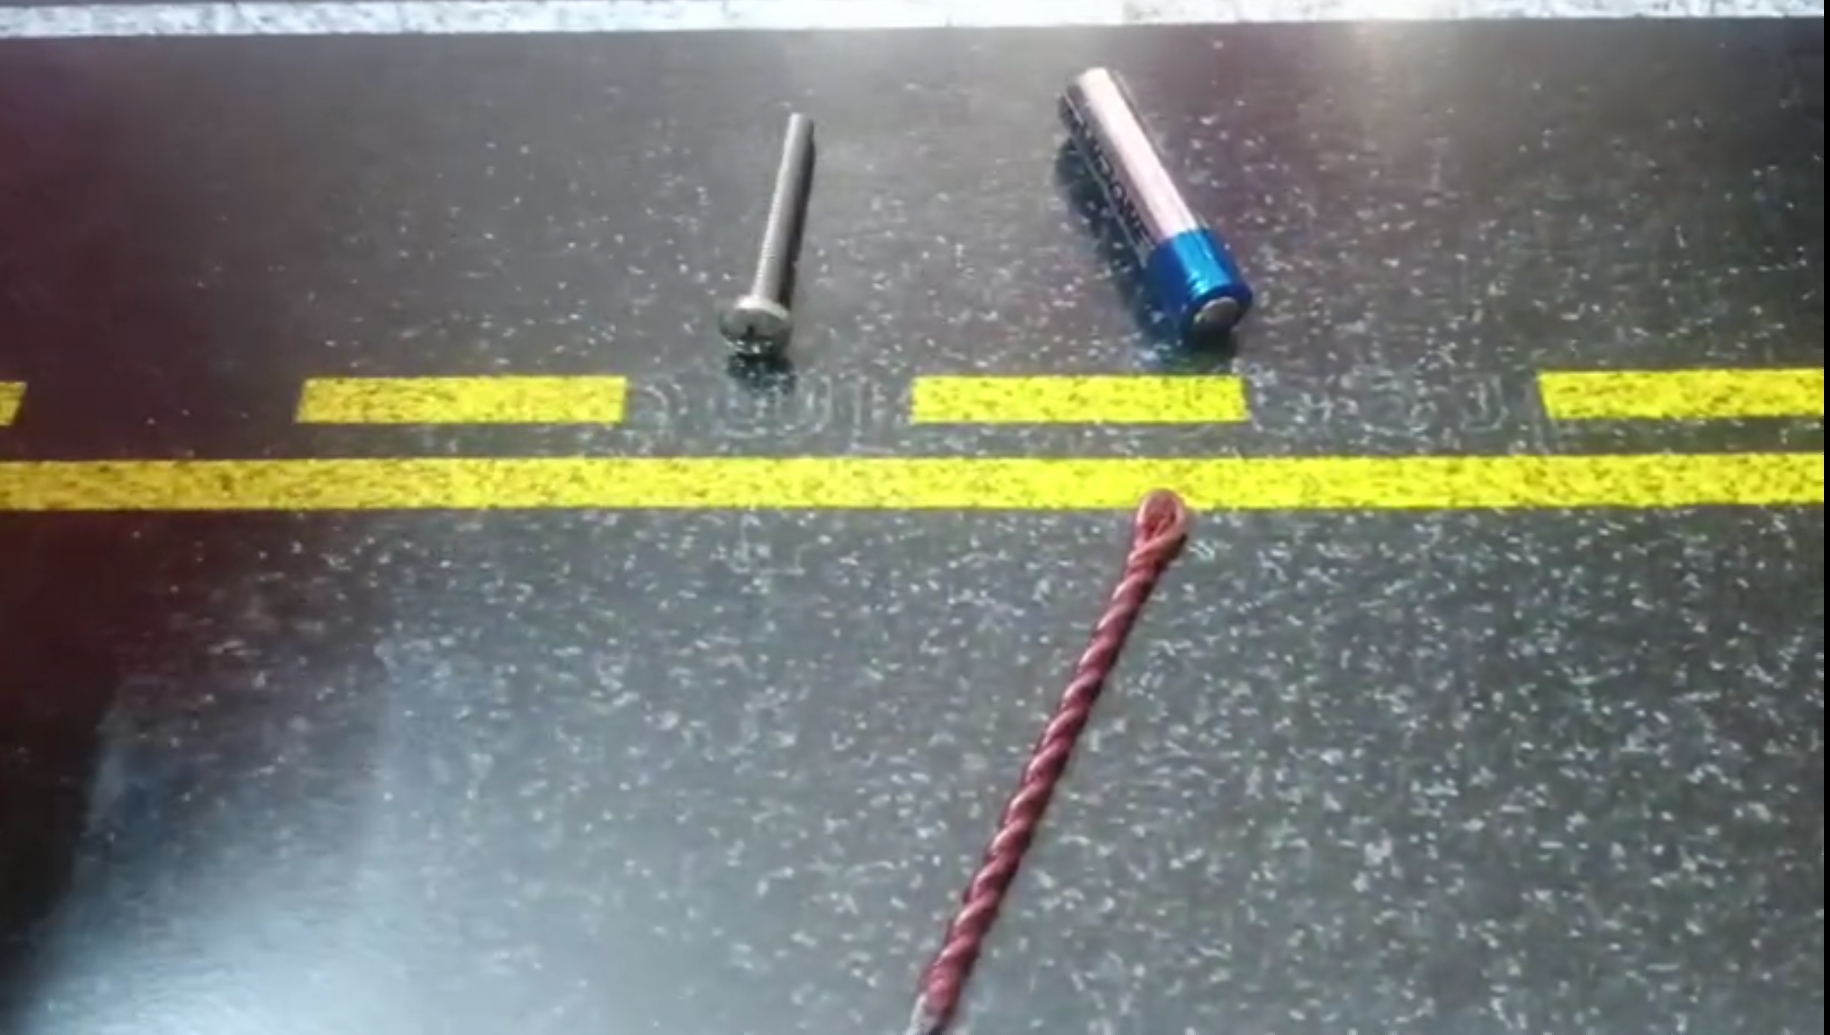metal: (907, 490, 1200, 1035), (1055, 67, 1259, 346), (715, 111, 816, 358)
